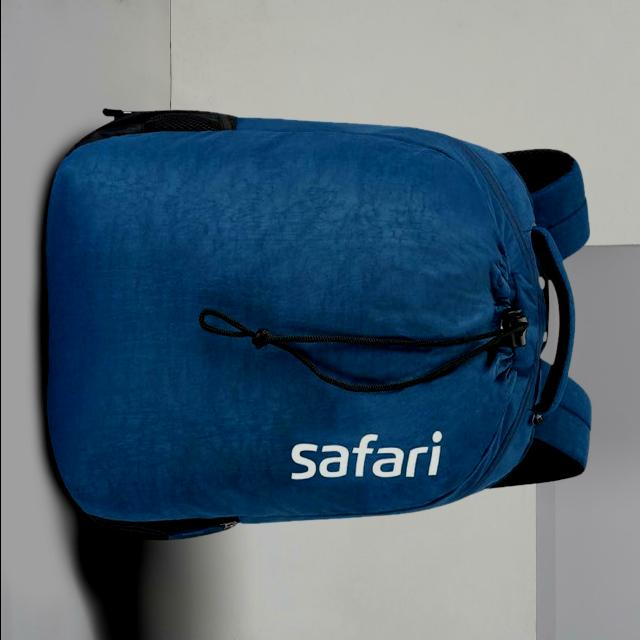backpack: (45, 109, 594, 543)
